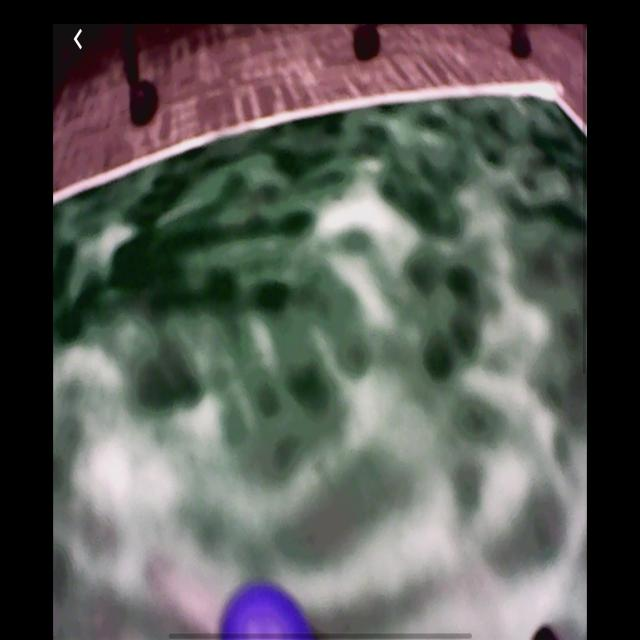ball: (224, 584, 313, 639)
